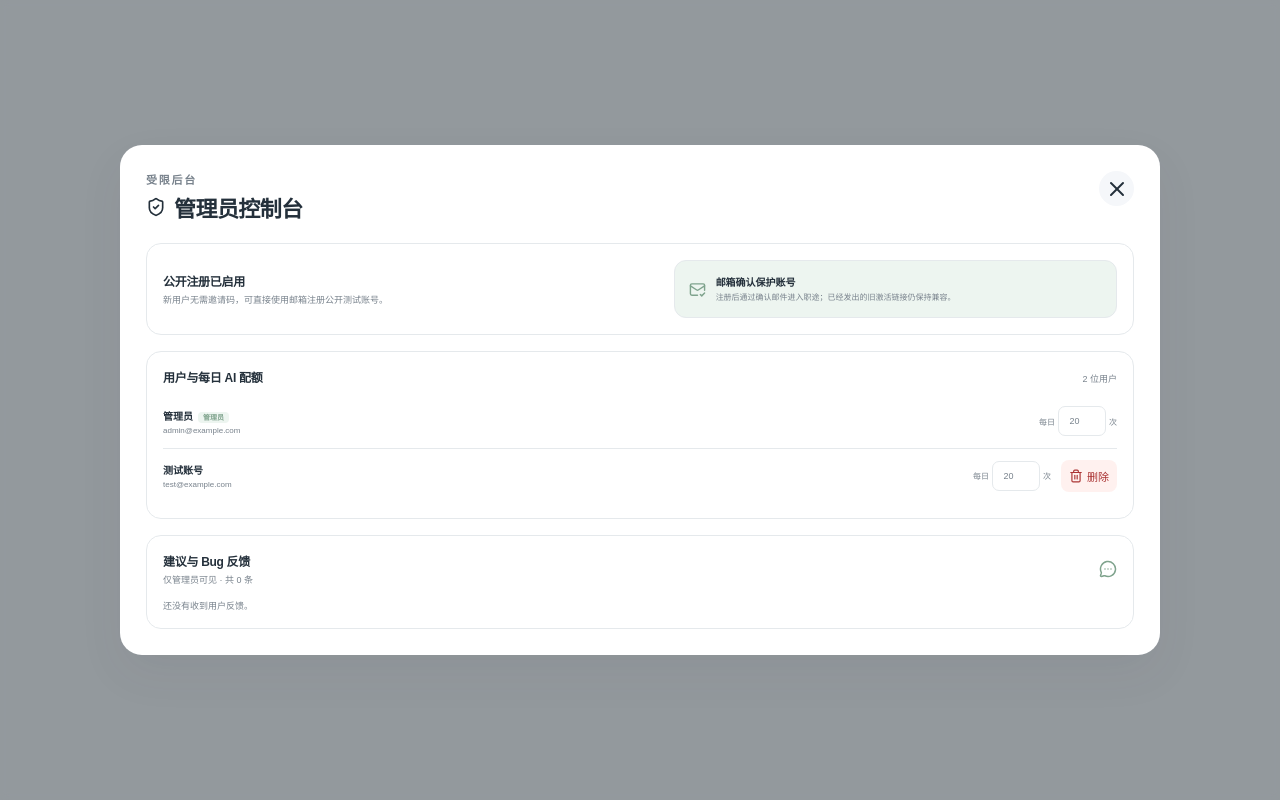
it: AdminPanel › hides deletion for administrators and cancellation never sends a delete
Click the button with aria-label "删除用户 test@example.com" at (1089, 476), box x1=1061 y1=460 x2=1117 y2=492
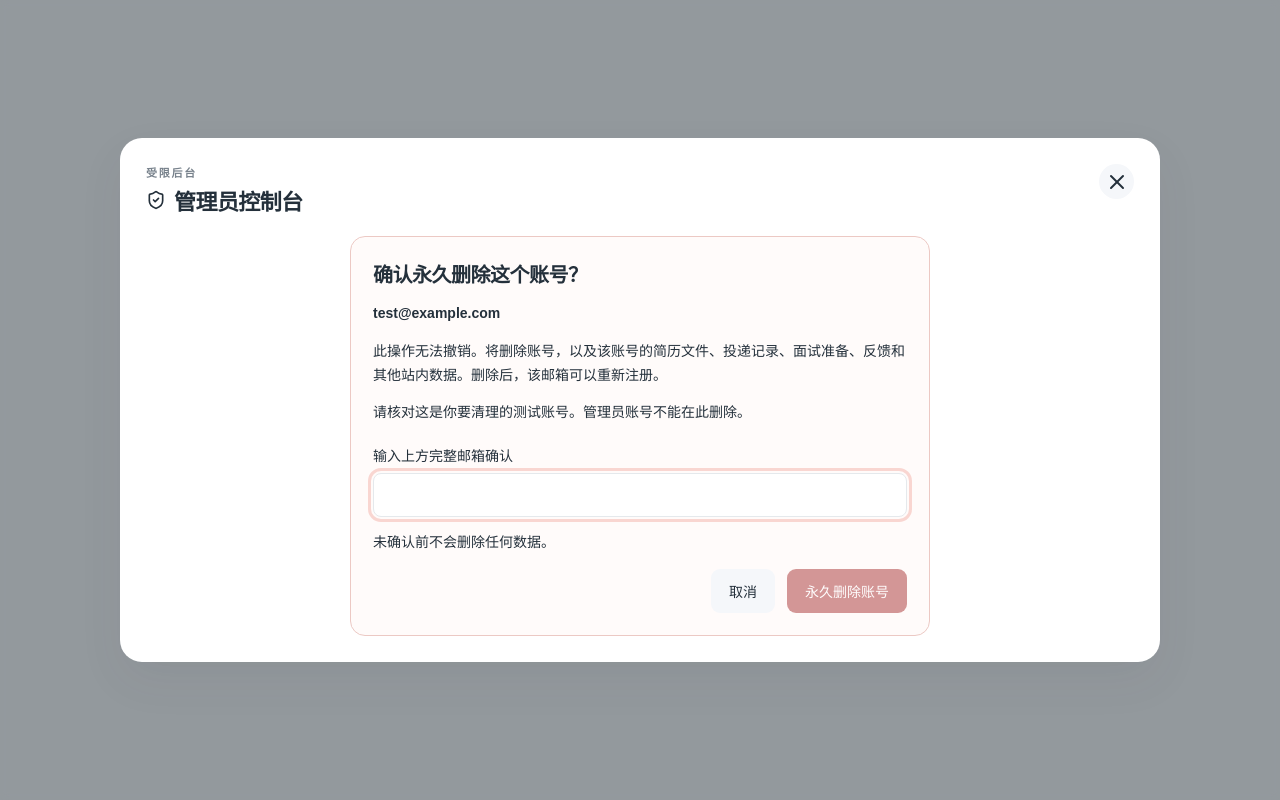
Expected: the button "永久删除账号" is disabled, x1=787 y1=569 x2=907 y2=613
Click the button "取消" at (743, 591), box x1=711 y1=569 x2=775 y2=613
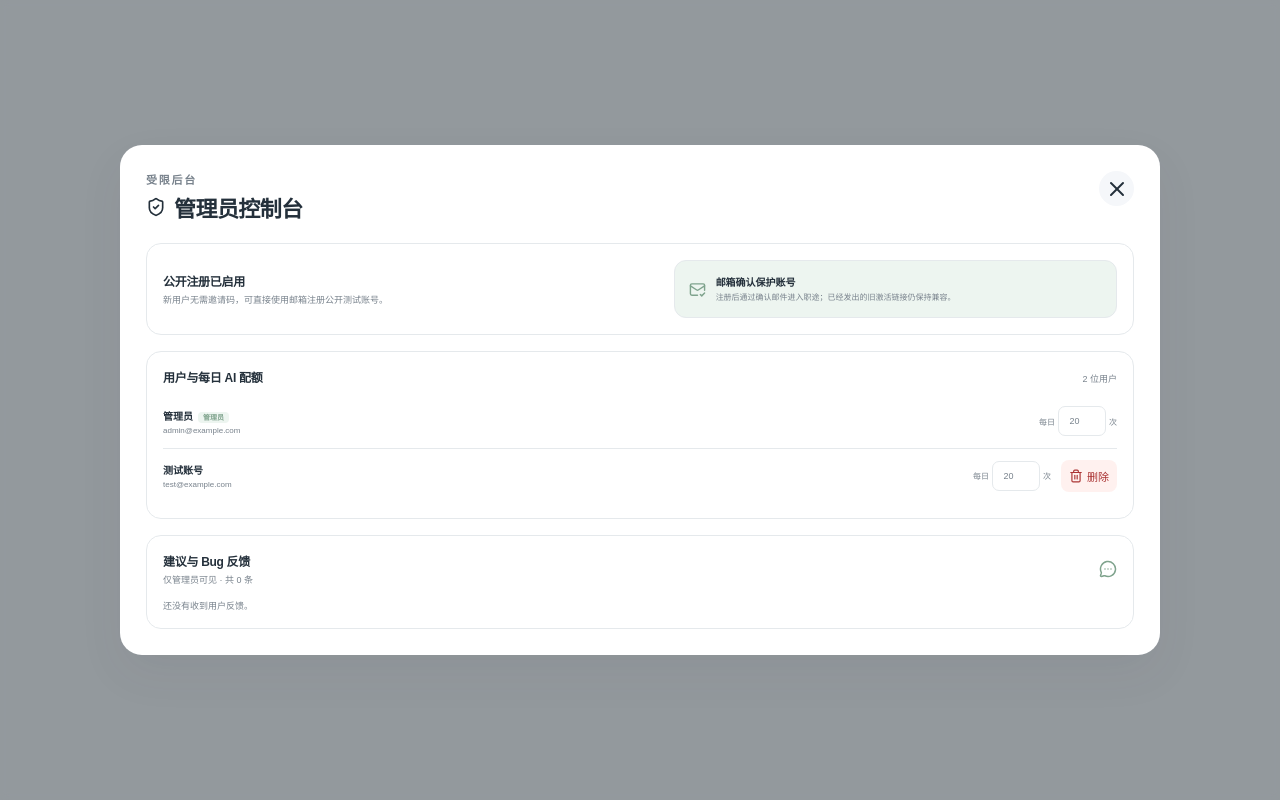
Expected: the form "删除用户确认" is gone
